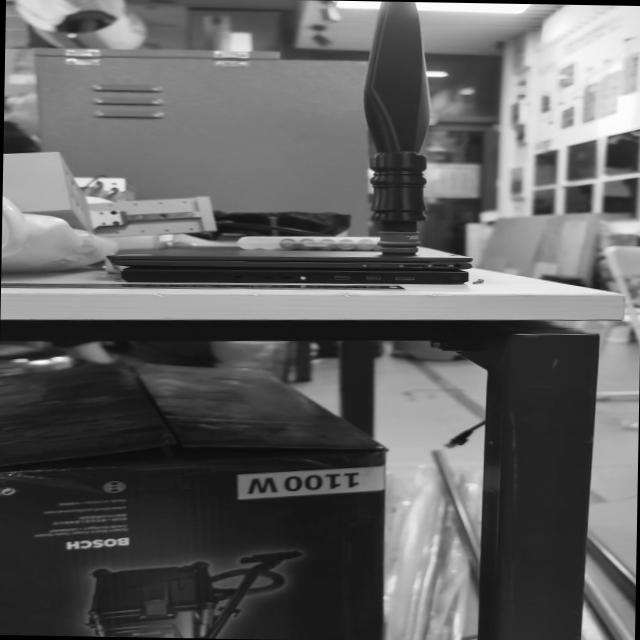base: (372, 227, 427, 262)
